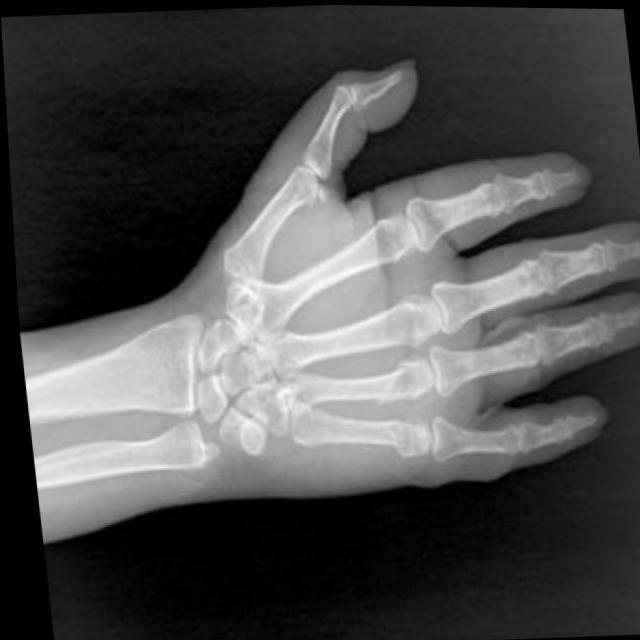fracture: (364, 358, 405, 406), (376, 414, 402, 459)
